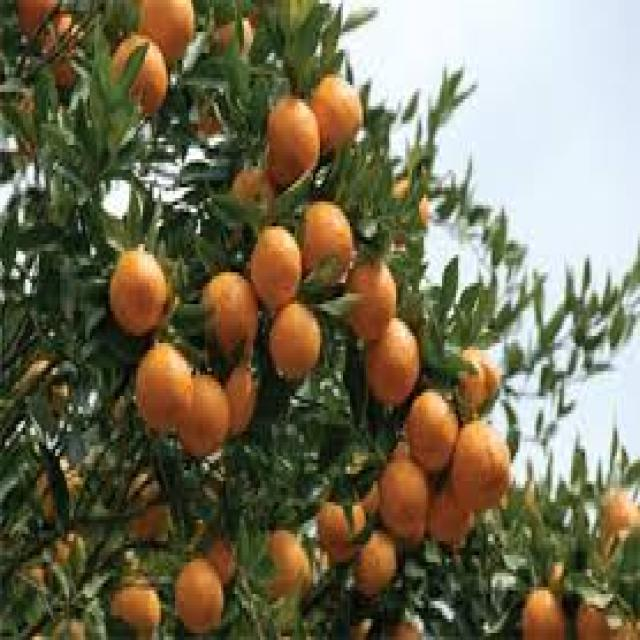orange: (102, 232, 174, 339), (262, 91, 324, 185), (249, 223, 308, 310)
